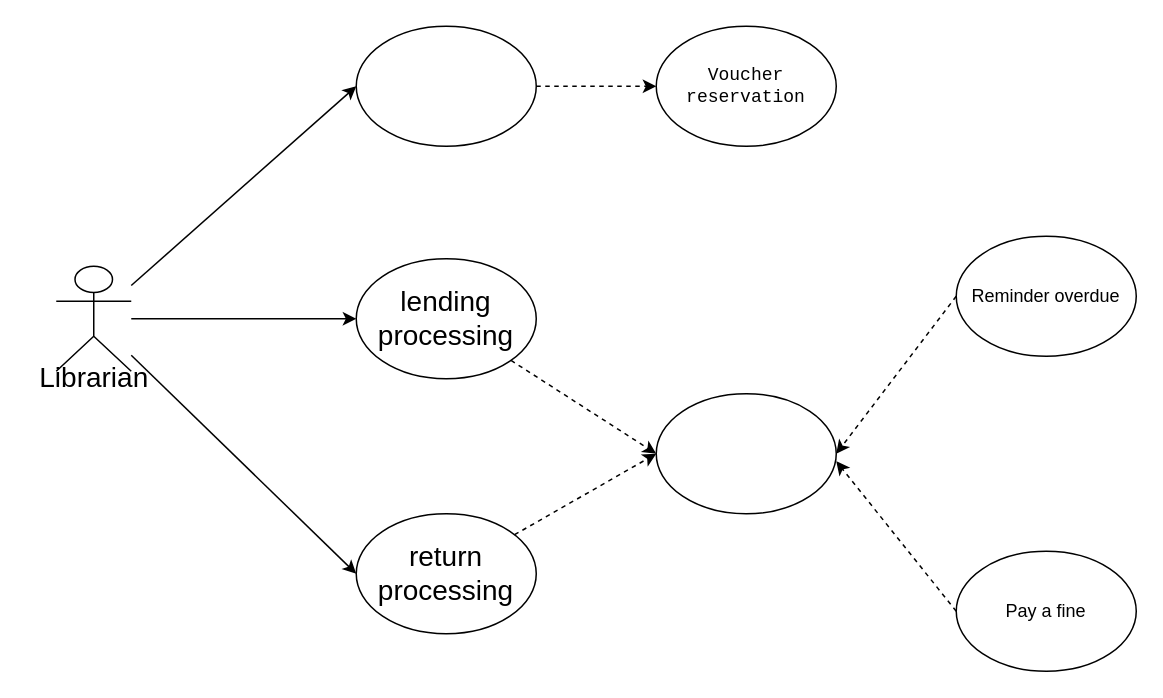
This 1163x698 diagram has some shape labels left out. The centre of each missing label's shape, as x and y in pixels:
"Processing overdue" belongs at point 745,453.
"Reservation information" belongs at point 445,85.
